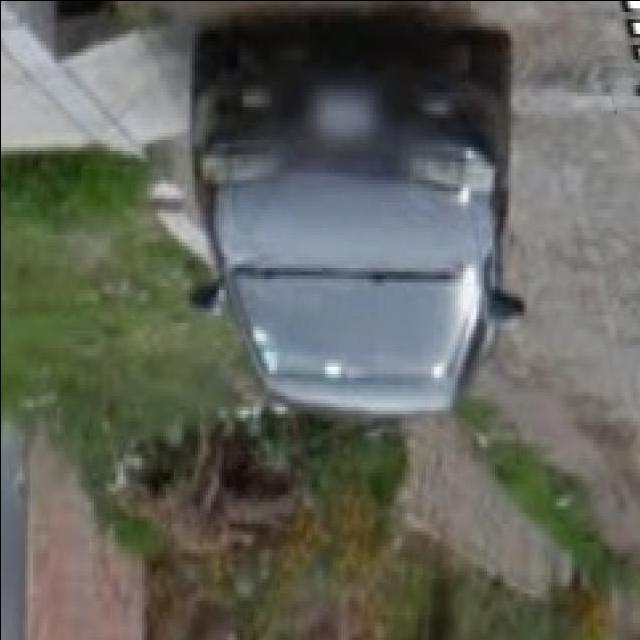car: (188, 45, 522, 418)
